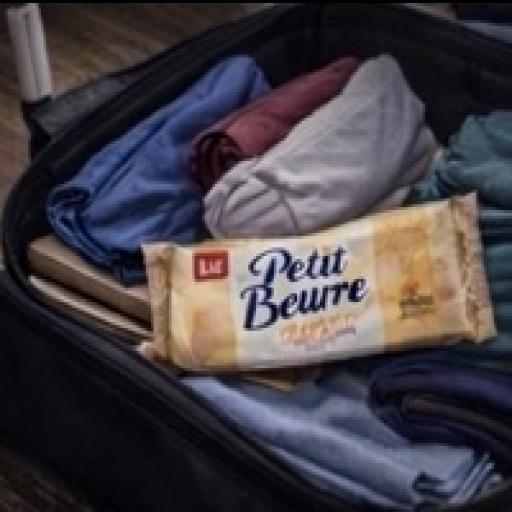petit_beurre: (110, 176, 512, 412)
